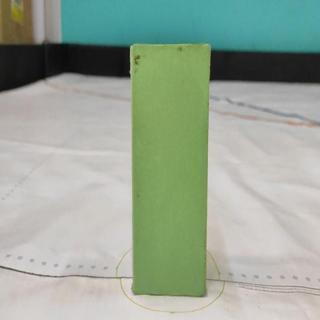greenbox: (132, 43, 208, 297)
